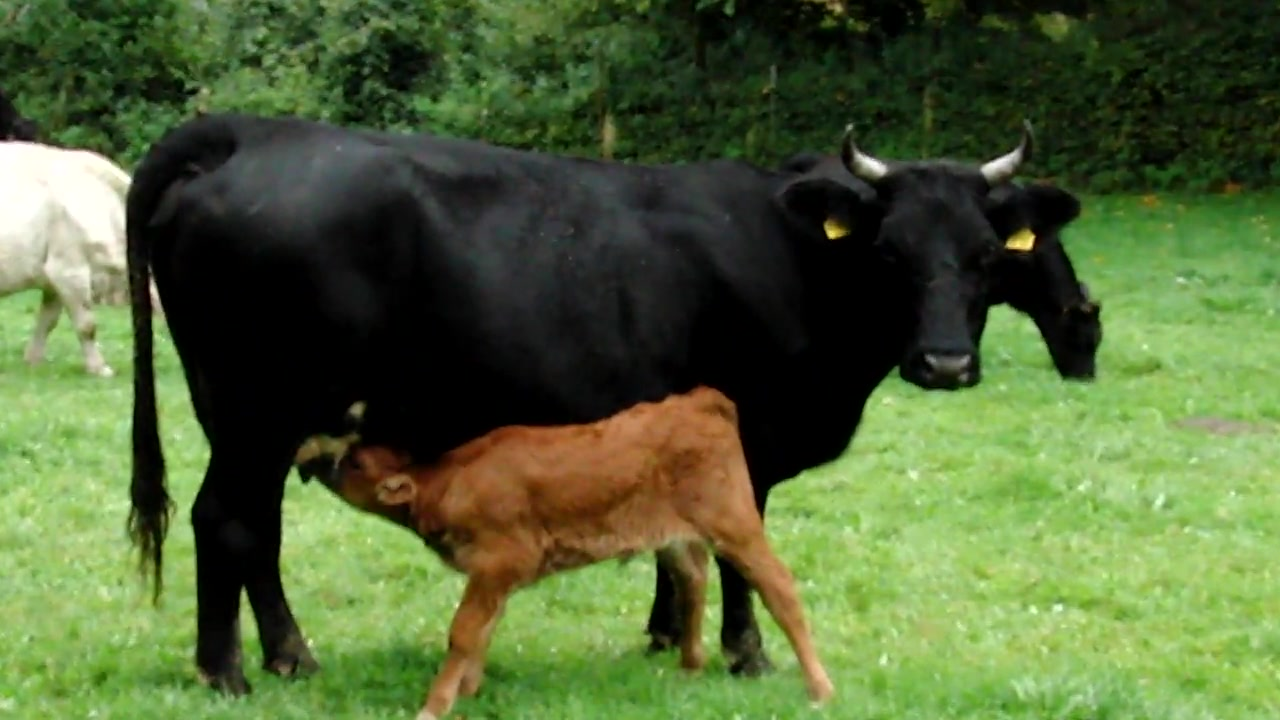cow: (119, 114, 1040, 709)
